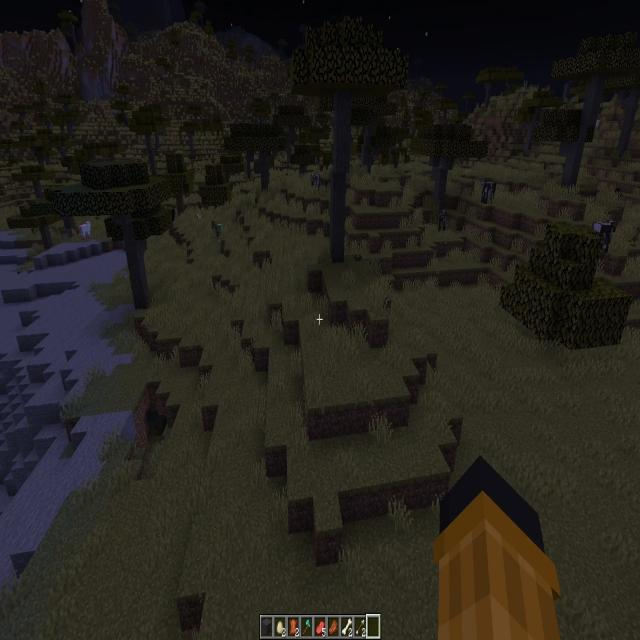Chicken: (196, 213, 201, 220)
Cow: (594, 213, 615, 251), (481, 178, 495, 203), (437, 205, 446, 226), (312, 174, 320, 191)
Creeper: (217, 222, 223, 242)
Sheep: (79, 220, 91, 240), (170, 208, 175, 224), (596, 118, 600, 129)
